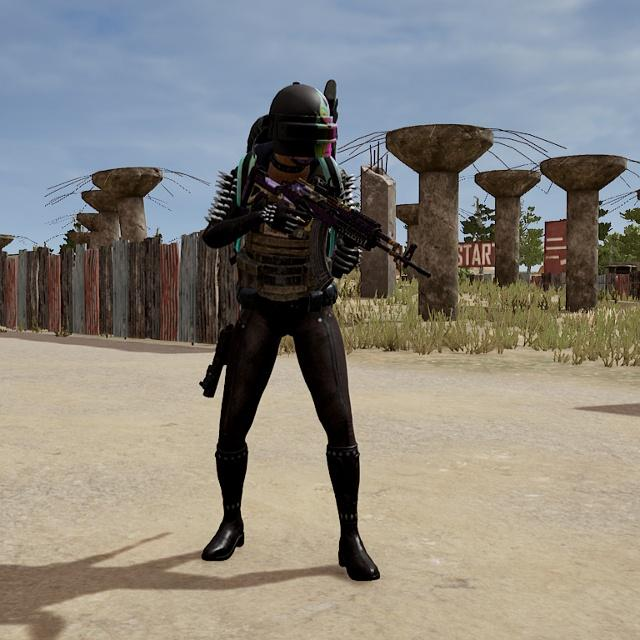head: (264, 78, 339, 178)
people: (187, 74, 387, 591)
